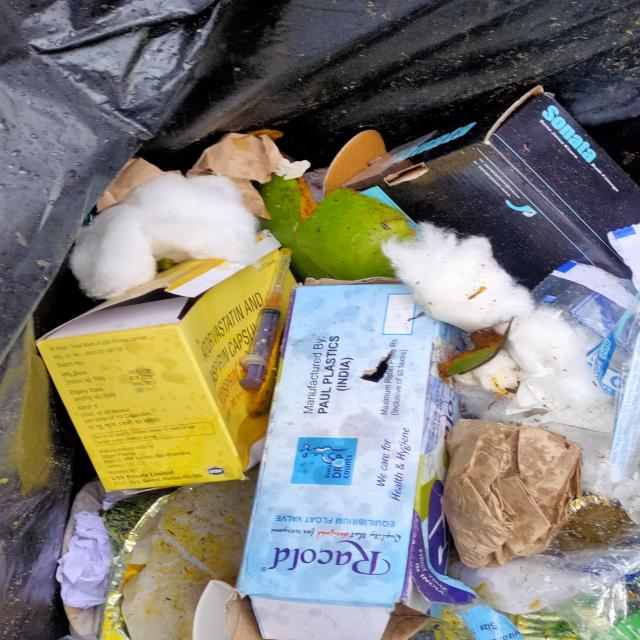B3: (33, 222, 267, 492), (244, 284, 470, 555), (404, 85, 640, 264), (446, 417, 580, 554), (382, 220, 538, 322), (508, 302, 604, 418), (90, 173, 255, 222), (248, 245, 295, 384)
